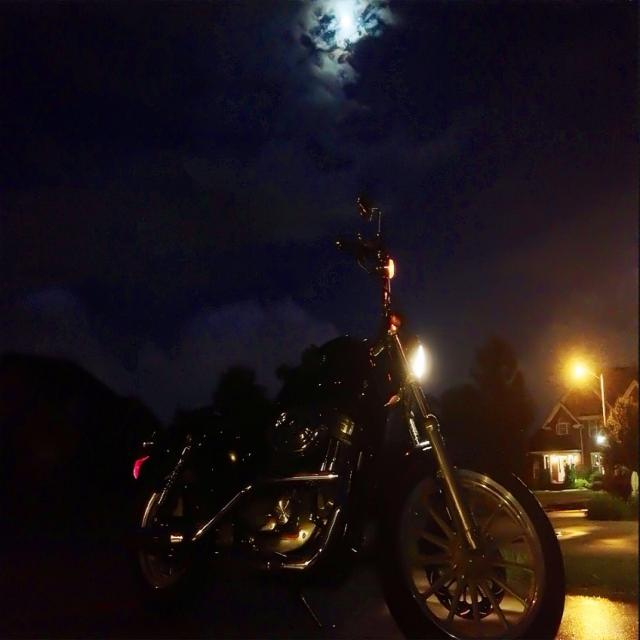People: (132, 169, 575, 640)
